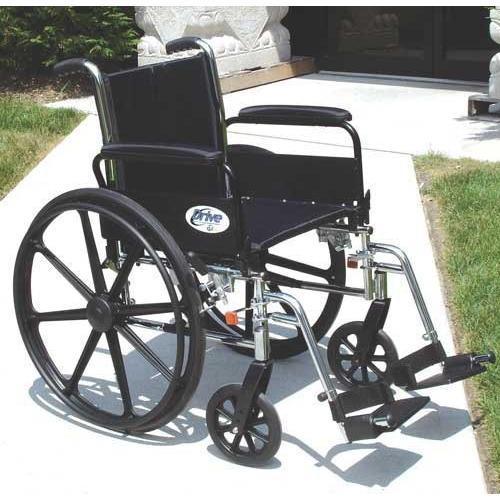wheelchair: (16, 51, 460, 452)
